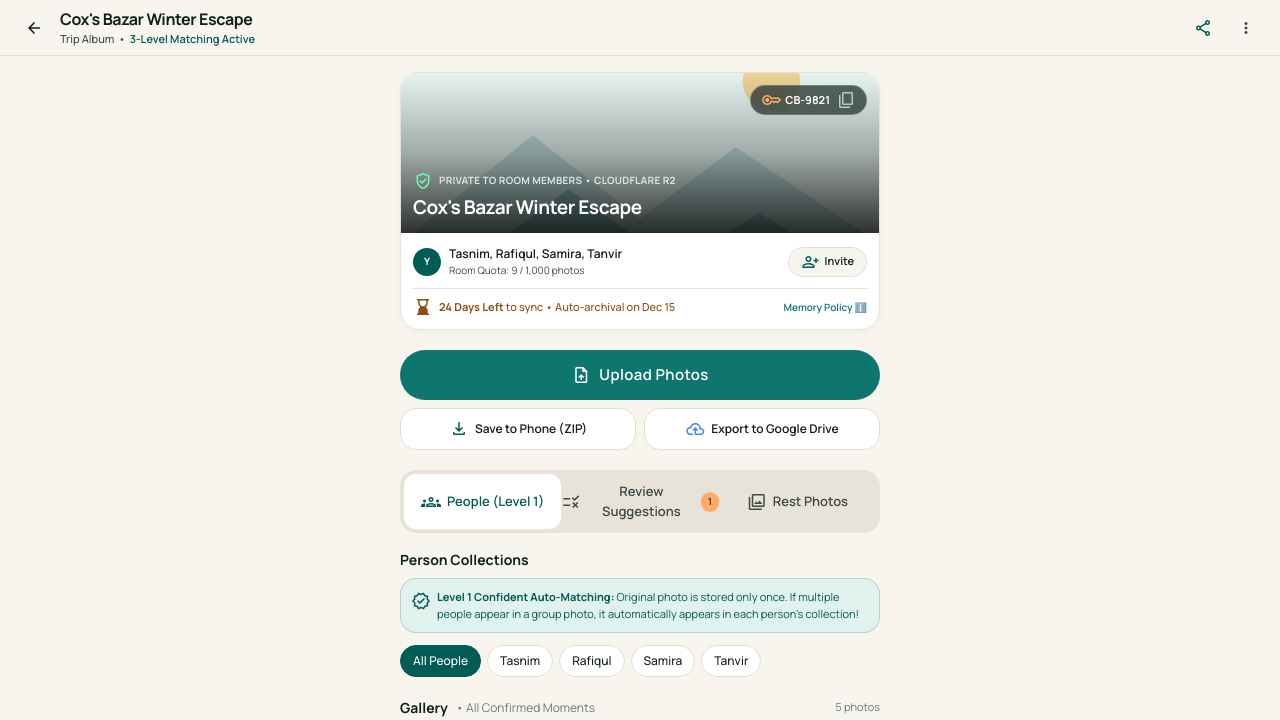
it: Three-Level Photo Matching & Grouping System › Level 1: Renders confirmed People tab and supports multi-person group photos
Expected: the text "People (Level 1)" is shown, [447,492,544,511]
# Filter by Tasnim
Click the button "Tasnim": (520, 661) [487,645,553,677]
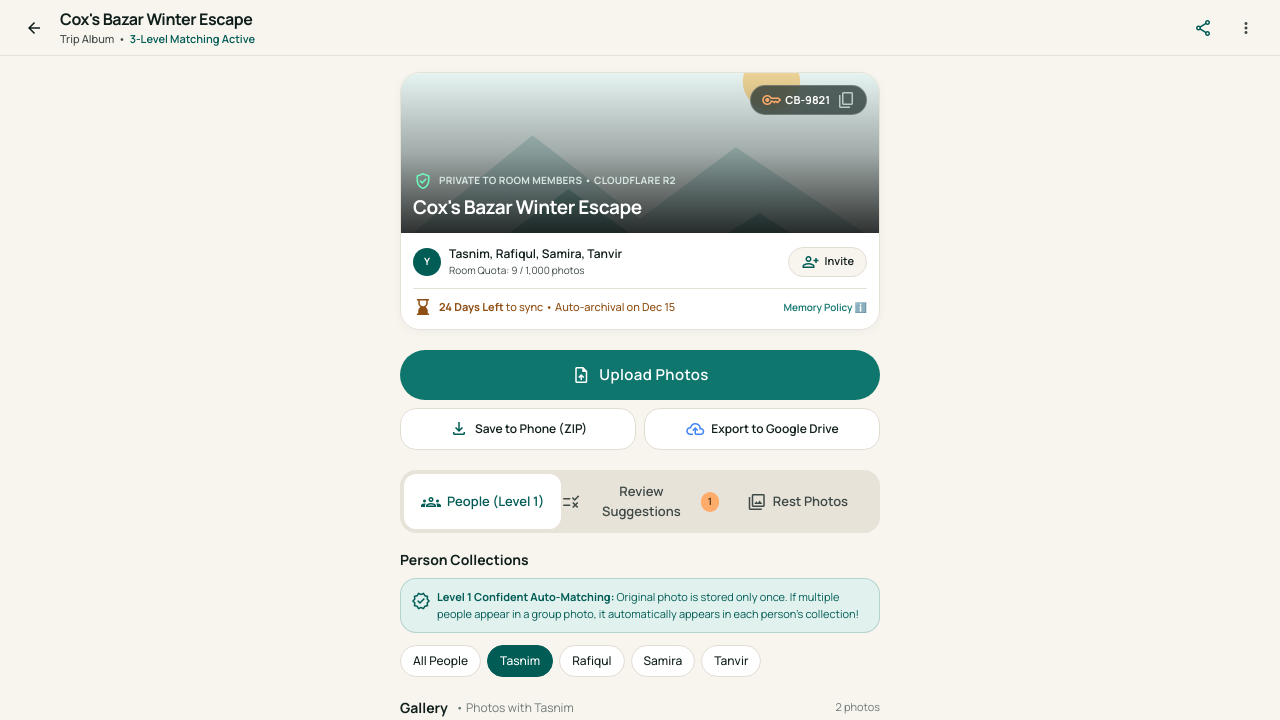
Expected: the text "• Photos with Tasnim" is shown, [456,698,574,716]
# Filter by Rafiqul - exact same photo should appear without duplicate storage!
Click the button "Rafiqul": (592, 661) [559,645,624,677]
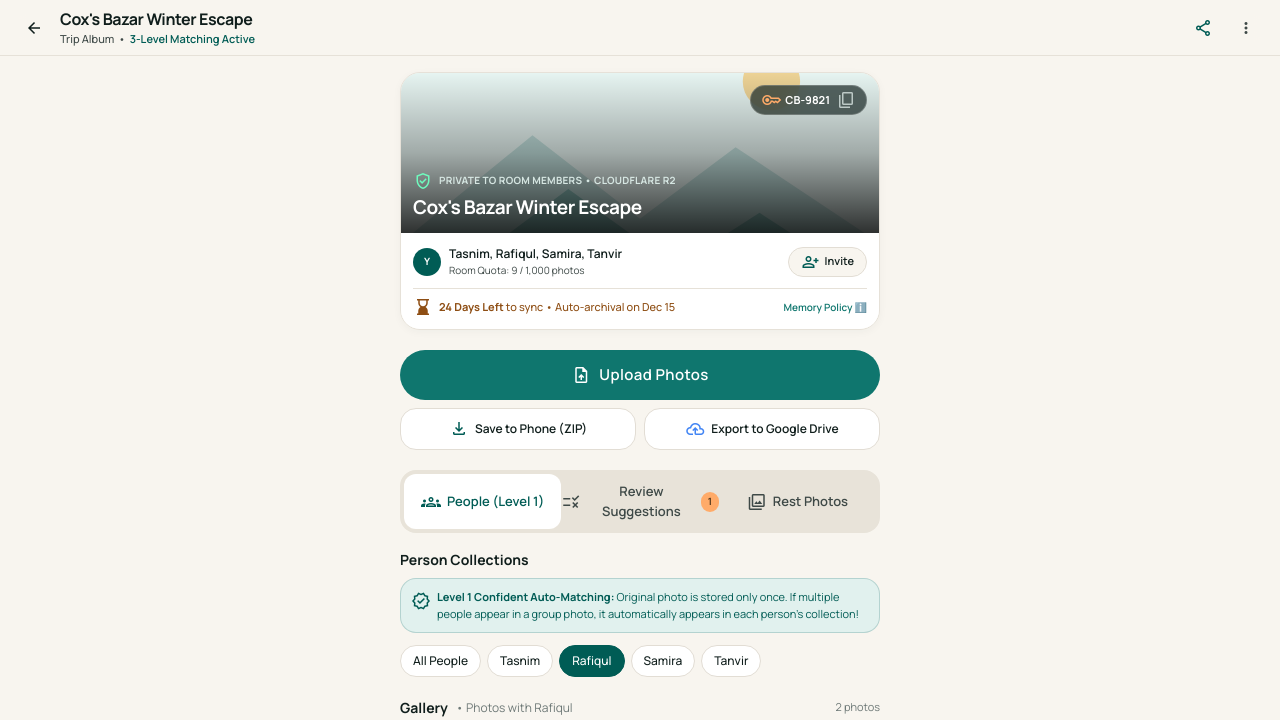
Expected: the text "• Photos with Rafiqul" is shown, [456,698,573,716]
